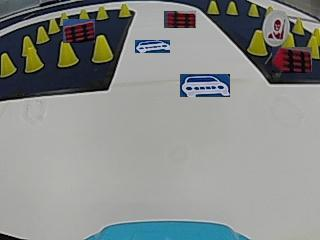evil: (262, 10, 288, 46)
